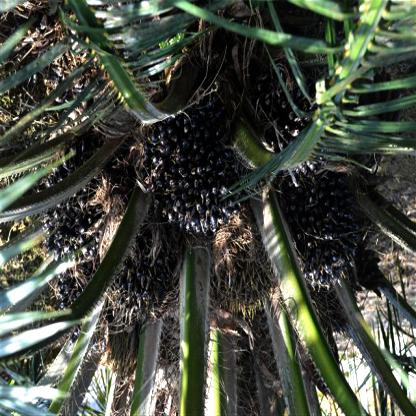palm-oil: (141, 97, 254, 236), (286, 175, 364, 286), (42, 152, 109, 268), (262, 54, 324, 156), (114, 228, 179, 313), (224, 233, 268, 319), (55, 270, 96, 314)
